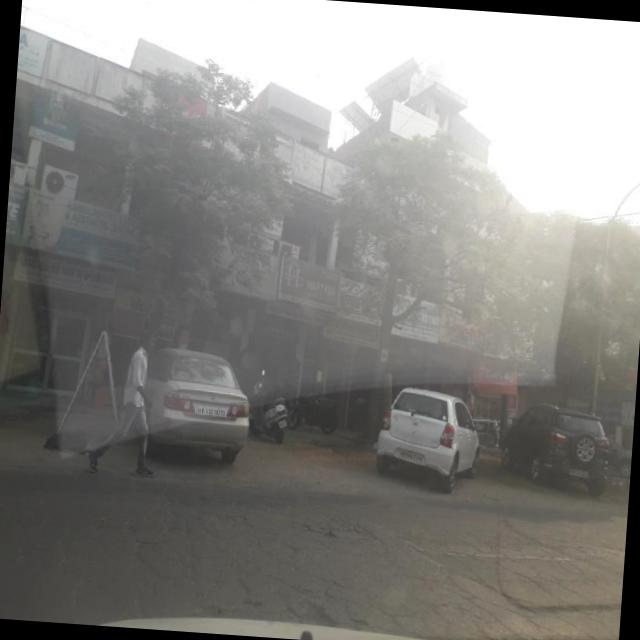crack: (110, 488, 600, 638)
